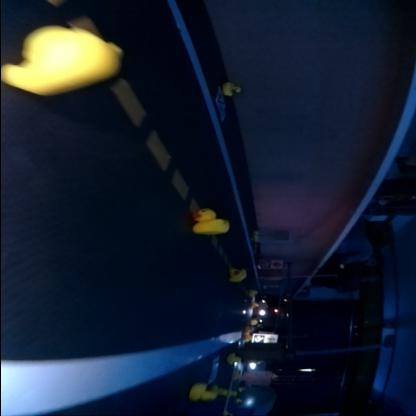Duckie: (16, 25, 122, 94), (192, 209, 228, 235), (189, 384, 216, 401), (223, 82, 242, 96), (229, 268, 247, 282), (227, 353, 239, 363), (249, 289, 257, 294)
QR code: (216, 88, 226, 120)
